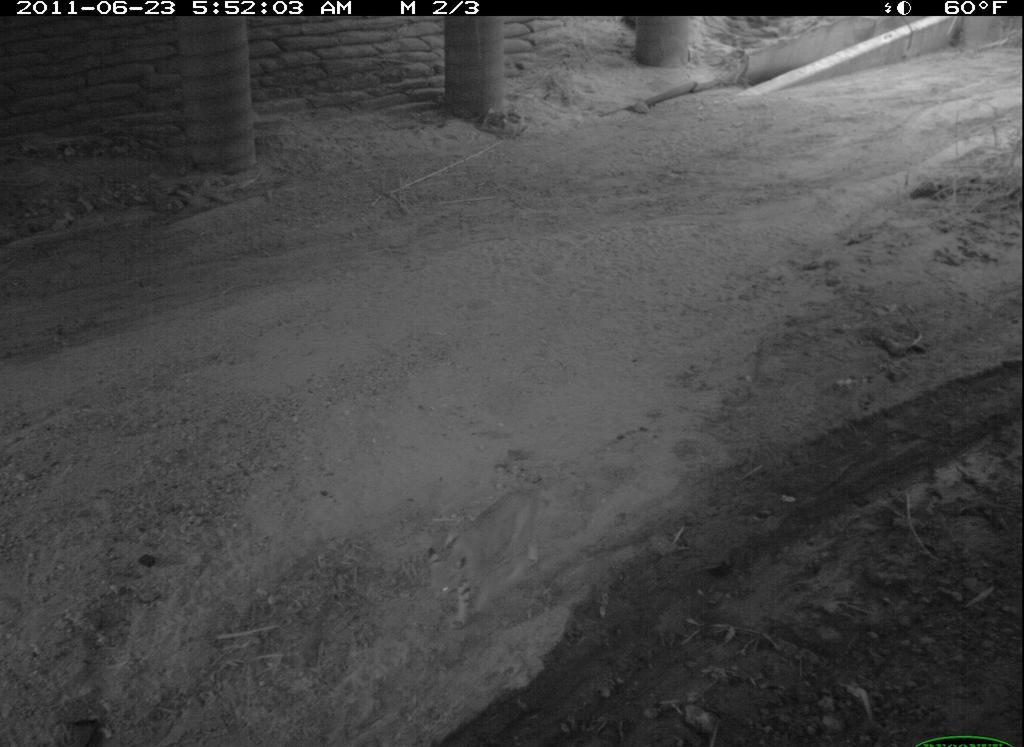bobcat: (423, 488, 548, 630)
